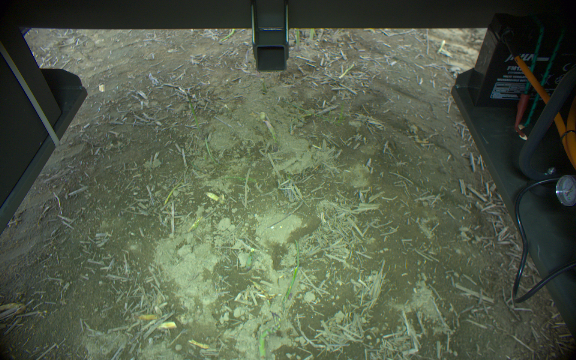aspa: (276, 238, 301, 309), (257, 309, 281, 360), (181, 91, 202, 136), (293, 27, 303, 51), (220, 29, 240, 41), (308, 29, 318, 42)
